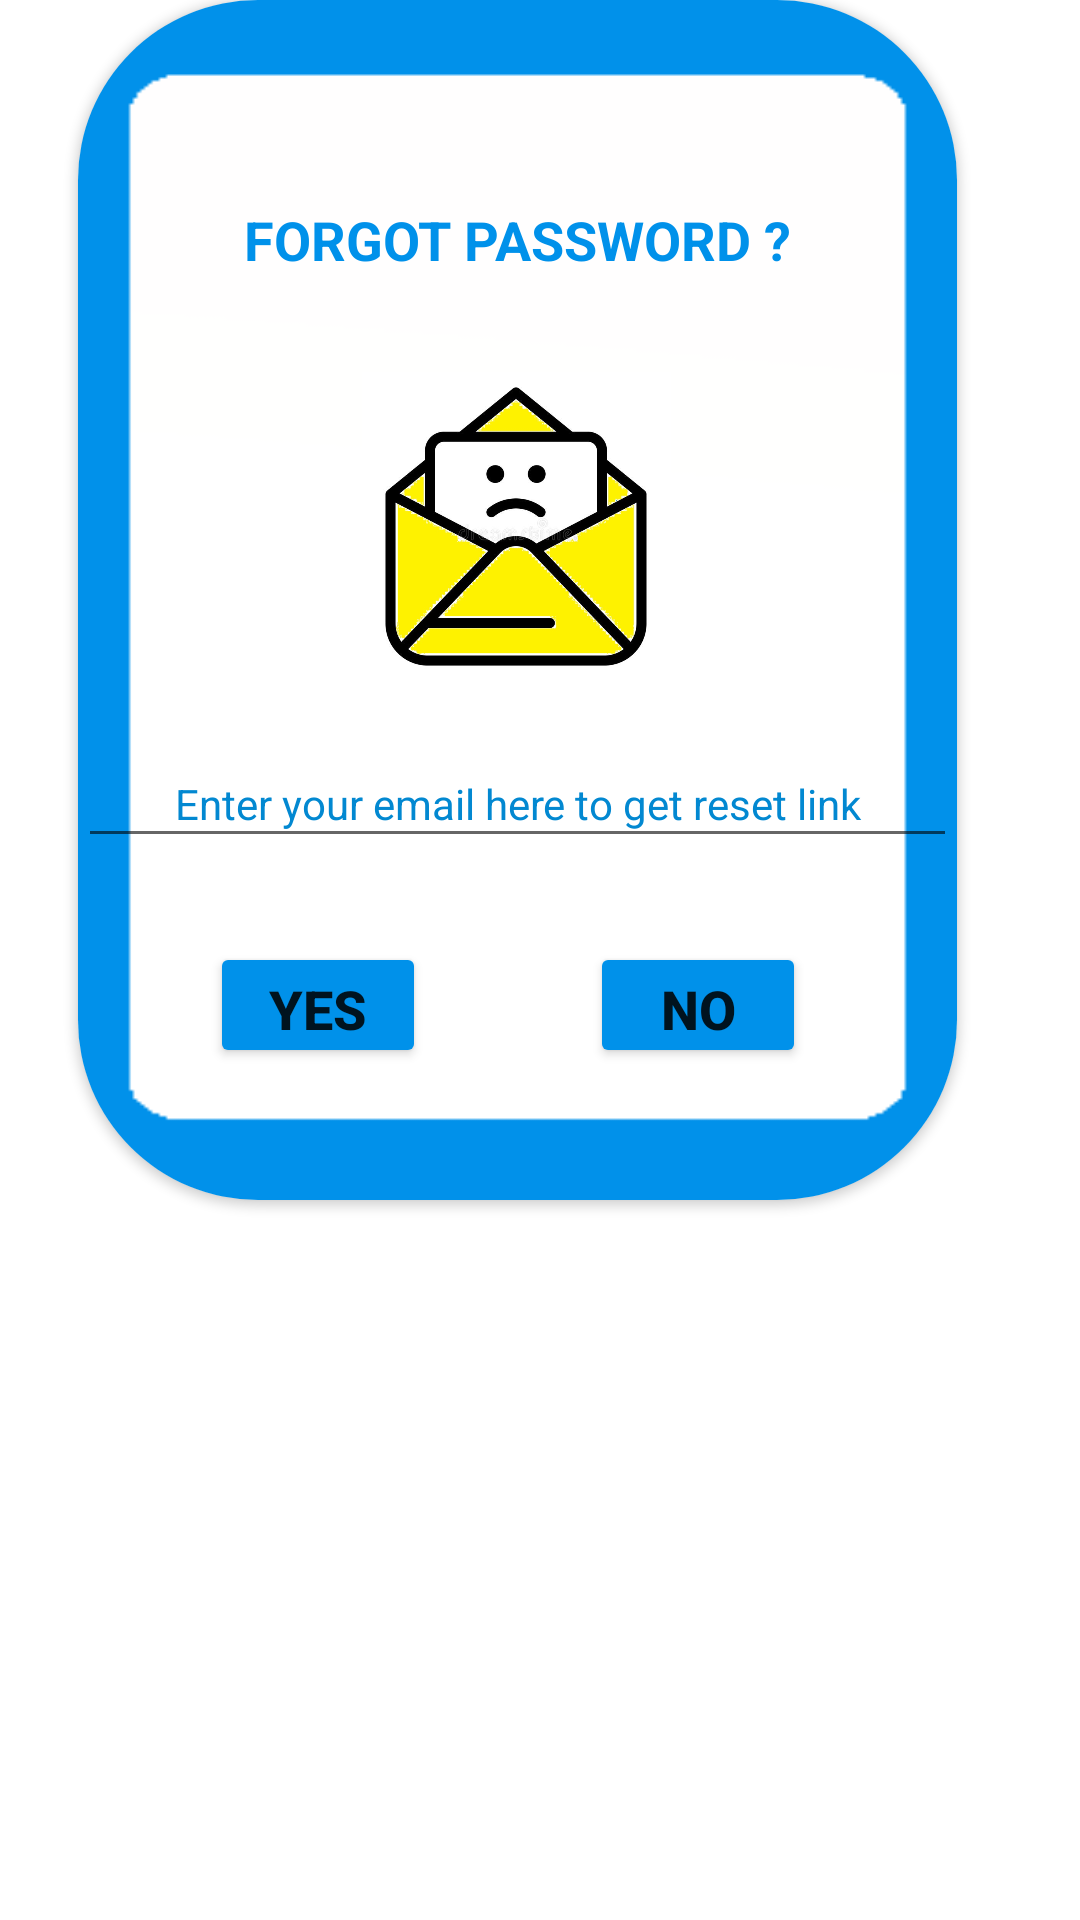

Icons on this 1080*1920 Android screen, each with its box as (x1, y1, x2, y2):
sademail: (385, 387, 647, 666)
